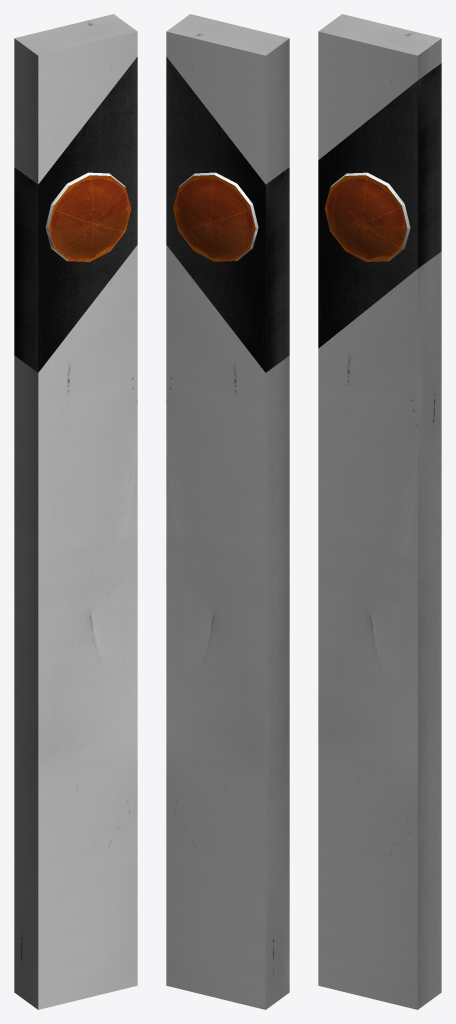
3 views of the same model, side by side, from view 1: azimuth 30°, elevation 25°; view 2: azimuth 150°, elevation 25°; view 3: azimuth 330°, elevation 25° (orthographic).
Visible parts, largest first — view 1: MainBuilding; view 2: MainBuilding; view 3: MainBuilding.
Part boxes in pixels (<box>): MainBuilding: <box>14,14,137,1009</box>; MainBuilding: <box>166,14,289,1009</box>; MainBuilding: <box>318,14,441,1009</box>.
Size of the model in its own units: 0.12 by 1.1 by 0.071.
1 material, 1 textured.
